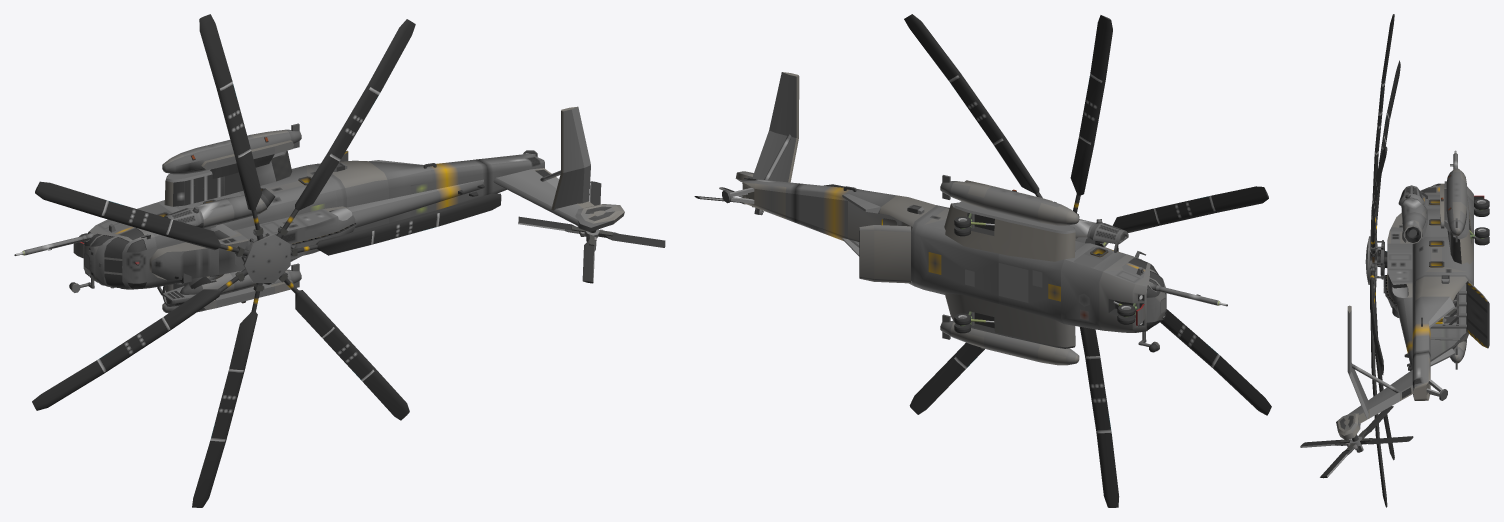
The model's file is super-stallion-cockpit.glb.
3 renders of one model, left to right at view 1: azimuth 30°, elevation 25°; view 2: azimuth 150°, elevation 25°; view 3: azimuth 270°, elevation 25°, orthographic. The views are drawn at different scales.
Visible parts, largest first — view 1: AirRotors_FrontColor_0, Air1_FrontColor_0, Air_FrontColor_0, Air2_FrontColor_0, Air3_FrontColor_0, AirGlass_FrontColor.008_0; view 2: Air_FrontColor_0, AirRotors_FrontColor_0, Air1_FrontColor_0, Air2_FrontColor_0, Air3_FrontColor_0, Air4_FrontColor_0; view 3: Air_FrontColor_0, Air1_FrontColor_0, AirRotors_FrontColor_0, Air2_FrontColor_0, Air3_FrontColor_0, Air5_FrontColor_0, Air6_FrontColor_0, Air4_FrontColor_0.
Boxes of the visible parts, bbox=[...] form: AirRotors_FrontColor_0: bbox=[32, 14, 665, 507]; Air1_FrontColor_0: bbox=[149, 106, 624, 292]; Air_FrontColor_0: bbox=[83, 153, 544, 289]; Air2_FrontColor_0: bbox=[162, 123, 353, 313]; Air3_FrontColor_0: bbox=[14, 150, 560, 295]; AirGlass_FrontColor.008_0: bbox=[84, 228, 146, 288]; Air_FrontColor_0: bbox=[742, 178, 1166, 332]; AirRotors_FrontColor_0: bbox=[694, 14, 1271, 507]; Air1_FrontColor_0: bbox=[735, 72, 1108, 348]; Air2_FrontColor_0: bbox=[940, 175, 1128, 365]; Air3_FrontColor_0: bbox=[722, 134, 1227, 352]; Air4_FrontColor_0: bbox=[954, 213, 1139, 333]; Air_FrontColor_0: bbox=[1391, 184, 1473, 400]; Air1_FrontColor_0: bbox=[1336, 194, 1473, 440]; AirRotors_FrontColor_0: bbox=[1300, 14, 1413, 507]; Air2_FrontColor_0: bbox=[1392, 168, 1466, 369]; Air3_FrontColor_0: bbox=[1351, 150, 1489, 400]; Air5_FrontColor_0: bbox=[1421, 187, 1468, 361]; Air6_FrontColor_0: bbox=[1430, 282, 1466, 340]; Air4_FrontColor_0: bbox=[1469, 198, 1489, 245].
Bounding box in the file's own units: 30.63 × 24.25 × 9.32.
2 materials, 2 textured.
